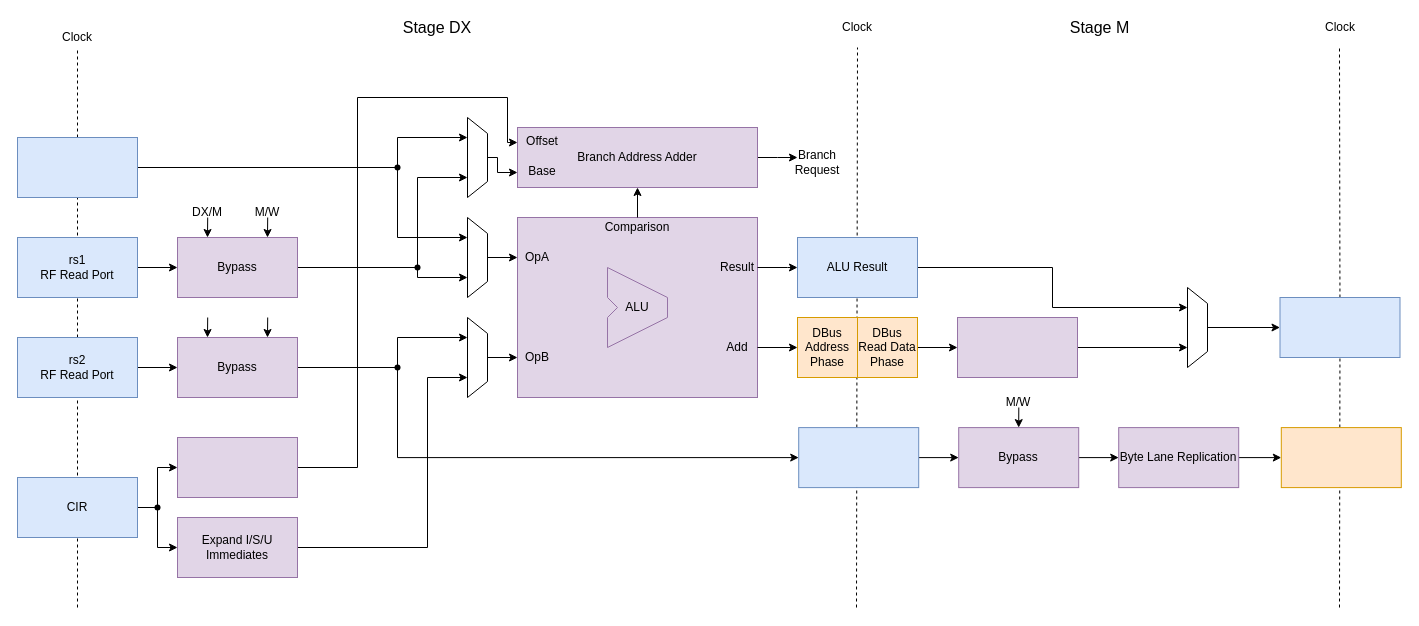
Some shapes in this 1419 by 626 pixel diagram are drawn without their labels. Each missing label, with the box of its shape:
DBus Write Data Phase: (1280, 427, 1401, 488)
Expand I/B/J Immediates: (176, 436, 298, 498)
PC: (16, 136, 138, 198)
Pick + Sign-Extend: (956, 316, 1078, 378)
RF Write Port: (1279, 296, 1400, 358)
Store Data: (798, 427, 919, 488)
